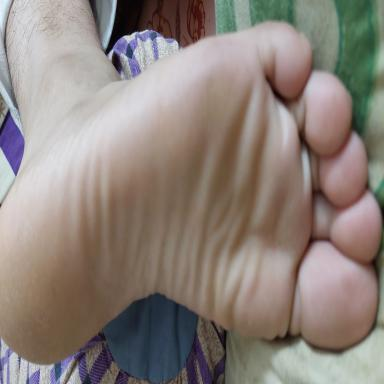normal skin: (0, 2, 382, 363)
